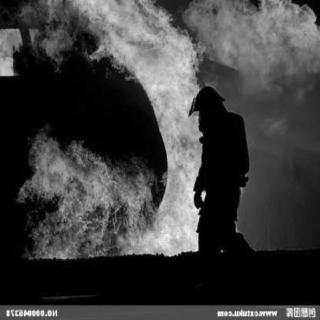Fire: (117, 0, 205, 253), (19, 136, 110, 254), (204, 0, 320, 84)
